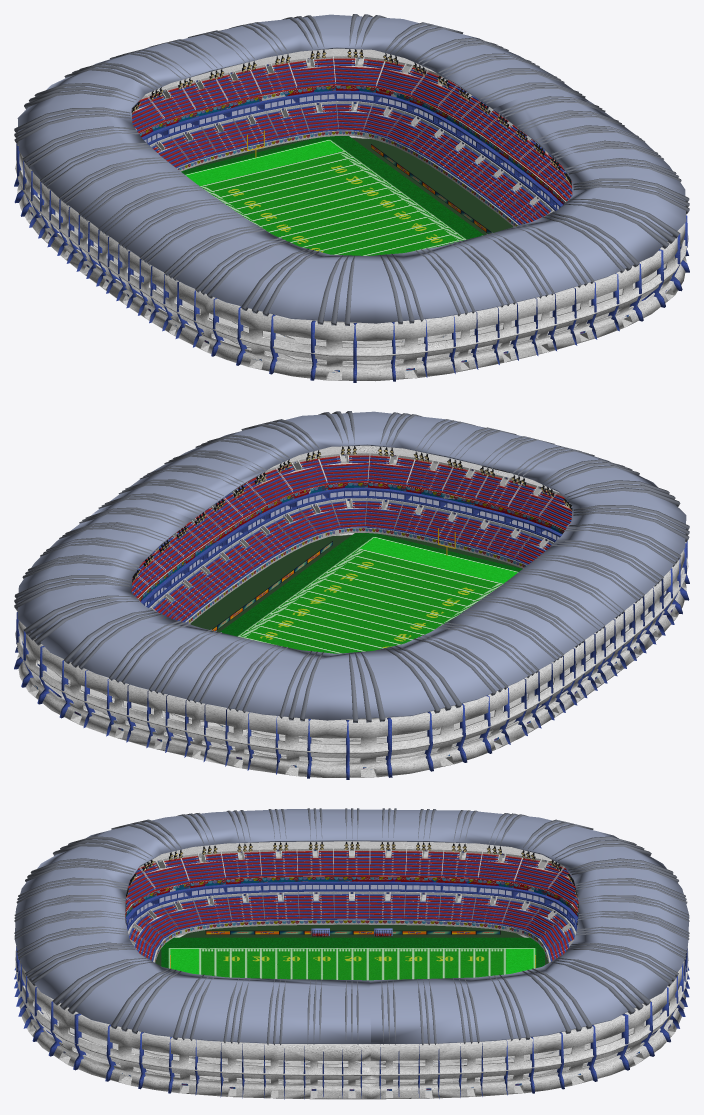
File: stadium.obj
3 renders of one model, top to bottom at view 1: azimuth 30°, elevation 25°; view 2: azimuth 150°, elevation 25°; view 3: azimuth 270°, elevation 25°, orthographic. The views are drawn at different scales.
Visible parts, largest first — view 1: stadium; view 2: stadium; view 3: stadium.
Boxes of the visible parts, bbox=[...] form: stadium: bbox=[14, 14, 689, 382]; stadium: bbox=[14, 411, 689, 779]; stadium: bbox=[14, 808, 689, 1099].
Size of the model in its own units: 166 by 26.06 by 203.
Materials: 19 (9 with a texture image).
